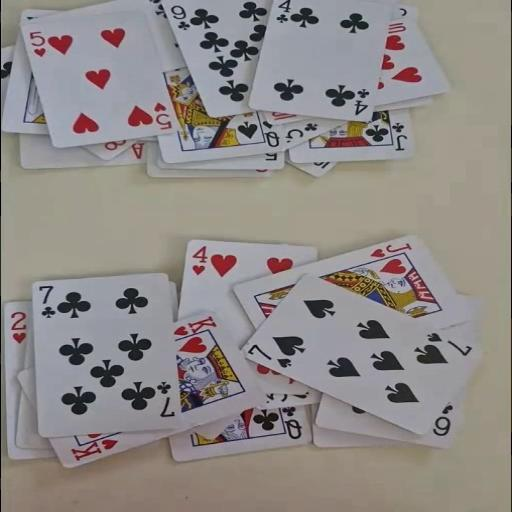2: (8, 310, 29, 344)
4: (188, 244, 208, 276), (352, 87, 371, 116), (272, 0, 291, 23)
5: (151, 100, 173, 131), (26, 29, 48, 58)
6: (430, 401, 456, 437)
7: (244, 342, 293, 369), (424, 331, 473, 357), (154, 380, 176, 418), (36, 283, 58, 319)
9: (168, 3, 192, 30)
J: (367, 241, 413, 259), (390, 121, 408, 151)
K: (67, 436, 120, 461), (170, 314, 219, 338)
